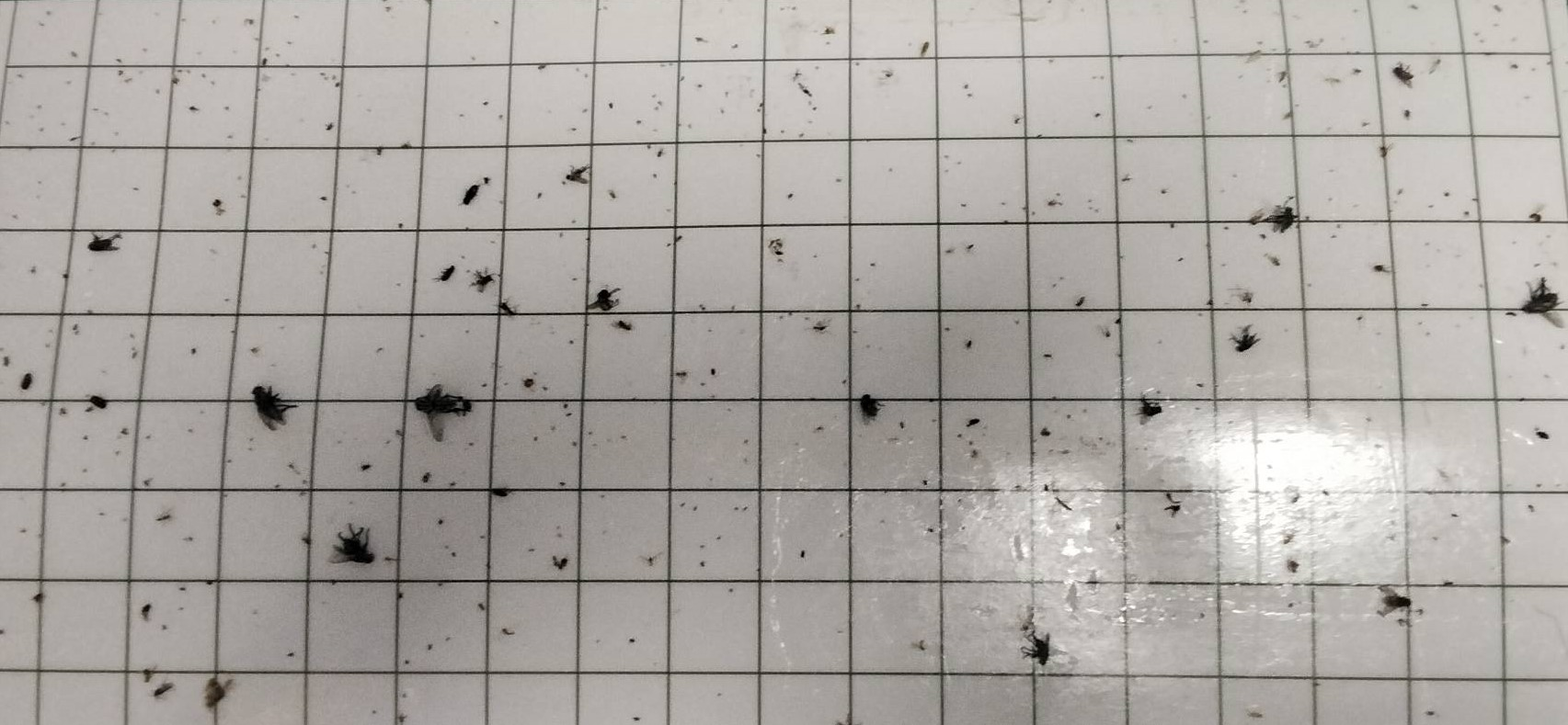fly: (412, 381, 473, 442), (325, 519, 380, 568), (247, 383, 299, 433), (1521, 275, 1567, 326), (1376, 580, 1415, 622), (1021, 631, 1058, 668), (584, 286, 621, 313), (1271, 202, 1298, 236), (1231, 328, 1261, 356), (1136, 399, 1164, 428), (1392, 60, 1418, 90), (858, 392, 885, 419)
test: (84, 233, 125, 256), (202, 677, 230, 710), (458, 181, 483, 207), (470, 269, 496, 294), (434, 261, 459, 284), (565, 164, 592, 185), (497, 300, 518, 320), (18, 369, 36, 392), (151, 682, 173, 700), (89, 393, 109, 412), (551, 553, 570, 572), (489, 485, 513, 500), (1527, 204, 1545, 224), (1286, 557, 1304, 576), (1533, 426, 1553, 441), (615, 318, 634, 333), (1372, 260, 1389, 276), (1378, 144, 1392, 162), (1163, 503, 1182, 516), (31, 590, 47, 605), (1281, 106, 1297, 121), (357, 461, 374, 475), (1248, 708, 1266, 721), (1237, 291, 1255, 304), (1072, 296, 1087, 311), (1268, 253, 1283, 268), (914, 637, 928, 653), (1111, 312, 1127, 326), (1282, 532, 1296, 548), (642, 554, 659, 567), (155, 511, 172, 524), (919, 40, 931, 58), (139, 601, 153, 616), (1010, 112, 1024, 127), (812, 321, 828, 334), (1401, 107, 1415, 121), (1275, 69, 1289, 83), (965, 416, 980, 429), (383, 554, 400, 565), (212, 196, 225, 210), (1441, 577, 1455, 590), (1120, 172, 1134, 185), (1101, 328, 1114, 342), (1040, 425, 1052, 440), (1047, 198, 1062, 210), (301, 534, 314, 547), (141, 668, 153, 682), (502, 626, 516, 638), (821, 25, 835, 37), (1508, 60, 1520, 74), (1431, 57, 1443, 71), (1361, 115, 1373, 129), (1422, 708, 1438, 718), (2, 354, 14, 367), (27, 264, 40, 276), (1166, 219, 1179, 231), (674, 368, 688, 379), (1349, 64, 1363, 75), (944, 245, 956, 257), (1490, 2, 1502, 14), (1499, 533, 1511, 545), (1165, 491, 1177, 503), (420, 471, 433, 482), (698, 301, 709, 314), (693, 35, 706, 46), (1505, 308, 1518, 319), (249, 345, 261, 356), (373, 145, 385, 156), (324, 121, 336, 132), (606, 100, 616, 113), (1042, 349, 1055, 359), (1442, 188, 1452, 201), (1289, 493, 1302, 503), (424, 642, 435, 653), (393, 428, 404, 439), (896, 420, 907, 431), (1125, 134, 1136, 145), (204, 577, 216, 587), (395, 591, 405, 603), (482, 175, 492, 187), (402, 142, 414, 152), (607, 190, 617, 202), (187, 103, 199, 113), (448, 478, 460, 488), (774, 248, 786, 258), (527, 544, 537, 556), (731, 41, 741, 53), (1113, 520, 1123, 532), (260, 55, 269, 68), (68, 133, 81, 142), (59, 406, 69, 417), (477, 601, 487, 612), (119, 426, 129, 437), (537, 62, 548, 72), (524, 377, 534, 388), (708, 367, 719, 377), (632, 713, 643, 723), (396, 714, 407, 724), (130, 350, 140, 361), (966, 242, 976, 253), (69, 50, 79, 61), (383, 4, 394, 14), (1462, 207, 1473, 217), (1205, 296, 1215, 307), (60, 272, 72, 281), (785, 191, 797, 200), (1157, 187, 1169, 196), (942, 325, 954, 334), (1408, 2, 1420, 11), (435, 517, 445, 527), (319, 193, 329, 203), (627, 635, 637, 645), (82, 434, 92, 444), (323, 249, 333, 259), (1353, 313, 1363, 323), (729, 302, 739, 312), (141, 478, 150, 489), (189, 345, 198, 356), (330, 577, 339, 588), (19, 526, 28, 537), (557, 230, 566, 241), (496, 112, 507, 121), (840, 376, 849, 387), (85, 307, 96, 316), (152, 88, 163, 97), (1286, 599, 1295, 610), (965, 339, 973, 351), (885, 69, 893, 81), (645, 140, 653, 152), (1449, 512, 1461, 520), (286, 651, 295, 661), (674, 235, 683, 245), (1093, 110, 1102, 120), (287, 462, 296, 472), (815, 423, 824, 433), (540, 384, 550, 393), (97, 510, 107, 519), (130, 184, 140, 193), (123, 77, 133, 86), (400, 691, 409, 701), (854, 302, 863, 312), (970, 449, 980, 458), (797, 131, 806, 141), (757, 99, 766, 109), (1199, 611, 1208, 621), (1116, 351, 1125, 361), (927, 524, 935, 535), (396, 220, 404, 231), (310, 241, 318, 252), (581, 105, 589, 116), (960, 82, 971, 90), (1540, 373, 1551, 381), (1144, 104, 1155, 112), (1350, 6, 1361, 14), (375, 345, 384, 354), (273, 481, 282, 490), (71, 323, 80, 332), (921, 478, 930, 487), (715, 534, 724, 543), (570, 276, 579, 285), (44, 9, 53, 18), (226, 133, 235, 142), (1470, 195, 1479, 204), (1196, 381, 1205, 390), (793, 70, 802, 79), (755, 566, 764, 575), (787, 308, 796, 317), (1557, 343, 1566, 352), (1057, 274, 1066, 283), (1196, 310, 1205, 319), (837, 531, 846, 540), (178, 584, 186, 594), (404, 657, 412, 667), (679, 499, 687, 509), (570, 440, 580, 448), (869, 260, 877, 270), (481, 98, 491, 106), (38, 19, 46, 29), (1527, 502, 1535, 512), (1260, 231, 1268, 241), (297, 488, 305, 498), (665, 240, 673, 250), (1302, 214, 1312, 222), (1335, 221, 1343, 231), (1415, 320, 1425, 328), (1321, 488, 1331, 496), (1020, 204, 1028, 214), (799, 549, 806, 560), (1042, 484, 1049, 495), (160, 622, 168, 631), (334, 79, 342, 88), (481, 381, 489, 390), (698, 560, 707, 568), (144, 433, 152, 442), (741, 504, 750, 512), (619, 433, 628, 441), (536, 191, 544, 200), (570, 217, 578, 226), (127, 331, 136, 339), (82, 466, 90, 475), (114, 448, 122, 457), (246, 17, 255, 25), (102, 108, 111, 116), (186, 427, 195, 435), (457, 111, 466, 119), (37, 124, 46, 132), (3, 118, 12, 126), (1420, 301, 1428, 310), (802, 88, 810, 97), (444, 634, 452, 643), (955, 432, 964, 440), (966, 439, 975, 447), (811, 103, 819, 112), (1424, 329, 1432, 338), (1013, 318, 1022, 326), (1312, 679, 1320, 688), (558, 480, 568, 487), (222, 104, 232, 111), (91, 106, 101, 113), (1036, 132, 1043, 142), (1397, 187, 1404, 197), (1532, 261, 1542, 268), (656, 149, 664, 157), (171, 77, 179, 85), (450, 550, 458, 558), (186, 534, 194, 542), (116, 69, 124, 77), (651, 172, 659, 180), (16, 72, 24, 80), (469, 55, 477, 63), (239, 192, 247, 200), (292, 12, 300, 20), (1177, 255, 1185, 263), (679, 74, 687, 82), (437, 581, 445, 589), (742, 436, 750, 444), (599, 493, 607, 501), (1001, 218, 1009, 226), (1222, 224, 1230, 232), (853, 60, 861, 68), (999, 200, 1007, 208), (1201, 37, 1209, 45), (533, 434, 540, 443), (115, 56, 122, 65), (728, 586, 735, 595), (692, 503, 699, 512), (10, 213, 19, 220), (140, 46, 149, 53), (761, 127, 768, 136), (226, 456, 233, 465), (221, 491, 228, 500), (177, 605, 186, 612), (755, 151, 762, 160), (1517, 396, 1526, 403), (1050, 281, 1057, 290), (1180, 92, 1189, 99), (563, 403, 570, 411), (566, 411, 573, 419), (222, 295, 230, 302), (635, 117, 642, 125), (59, 480, 67, 487), (493, 18, 500, 26), (36, 103, 44, 110), (184, 68, 192, 75), (264, 45, 272, 52), (180, 16, 187, 24), (965, 91, 972, 99), (696, 81, 703, 89), (229, 327, 236, 335), (249, 435, 256, 443), (301, 477, 309, 484), (698, 542, 706, 549), (719, 107, 727, 114), (1535, 482, 1543, 489), (111, 145, 117, 154), (571, 125, 577, 134), (247, 444, 253, 453), (733, 504, 740, 511), (585, 236, 592, 243), (65, 79, 72, 86), (253, 35, 260, 42), (211, 18, 218, 25), (960, 202, 967, 209), (479, 533, 486, 540), (370, 707, 377, 714), (700, 380, 707, 387), (1066, 413, 1073, 420), (812, 252, 819, 259), (887, 166, 894, 173), (1331, 233, 1338, 240), (1047, 57, 1054, 64), (568, 337, 574, 345), (199, 71, 205, 79), (468, 440, 474, 448), (854, 276, 860, 284), (779, 127, 785, 135), (656, 100, 664, 106), (1426, 203, 1434, 209), (176, 68, 182, 75), (286, 39, 293, 45), (274, 52, 280, 59), (464, 327, 471, 333), (707, 327, 713, 334), (835, 177, 842, 183), (723, 90, 729, 96), (464, 226, 471, 231), (418, 333, 424, 338)
